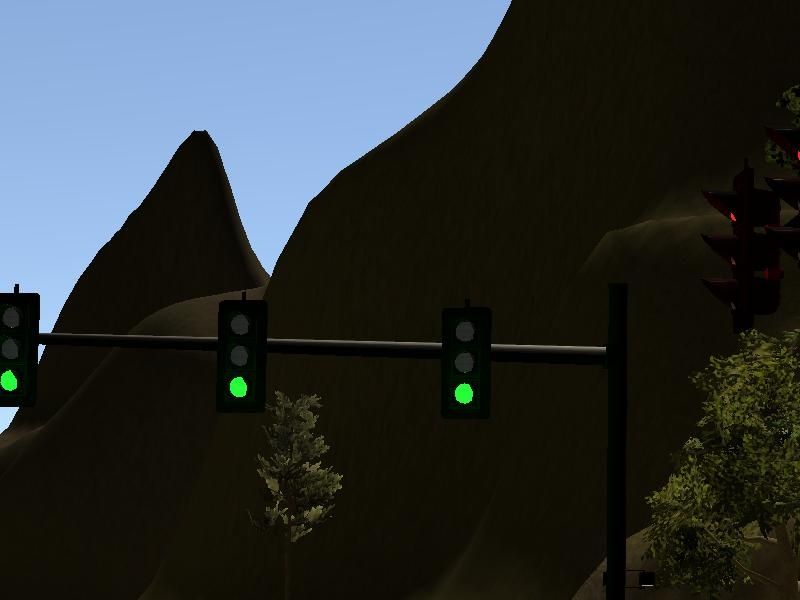GREEN: (438, 304, 490, 421), (215, 299, 266, 416), (1, 292, 39, 407)
